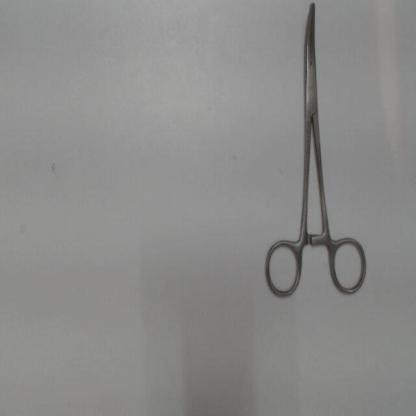Crile Artery Forceps: (259, 1, 373, 301)
